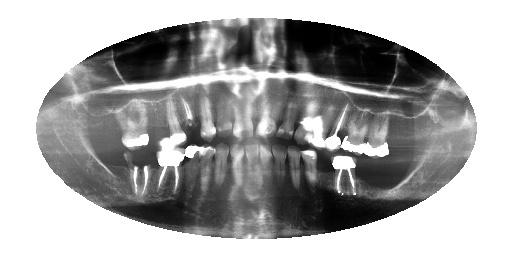i10healthy: (226, 140, 248, 191)
i11healthy: (211, 139, 231, 192)
i12healthy: (196, 145, 216, 193)
i13healthy: (183, 143, 203, 195)
i14healthy: (154, 144, 187, 200)
i15chipped: (119, 148, 154, 202)
i2loss: (356, 158, 379, 197)
i3healthy: (327, 151, 361, 200)
i4loss: (313, 151, 338, 193)
i5healthy: (300, 146, 321, 193)
i6decay: (283, 142, 304, 191)
i7decay: (271, 139, 287, 190)
i8decay: (259, 139, 274, 190)
i9healthy: (242, 141, 263, 192)
u10decay: (208, 88, 236, 142)
u11healthy: (196, 89, 222, 143)
u12chipped: (179, 90, 200, 142)
u13healthy: (164, 90, 188, 145)
u14loss: (145, 97, 170, 146)
u15healthy: (112, 98, 154, 151)
u2healthy: (367, 103, 392, 161)
u3healthy: (341, 97, 367, 155)
u4healthy: (323, 96, 349, 152)
u5healthy: (309, 90, 337, 151)
u6healthy: (292, 94, 320, 143)
u7decay: (273, 90, 299, 143)
u8healthy: (257, 92, 279, 139)
u9decay: (229, 90, 258, 142)
